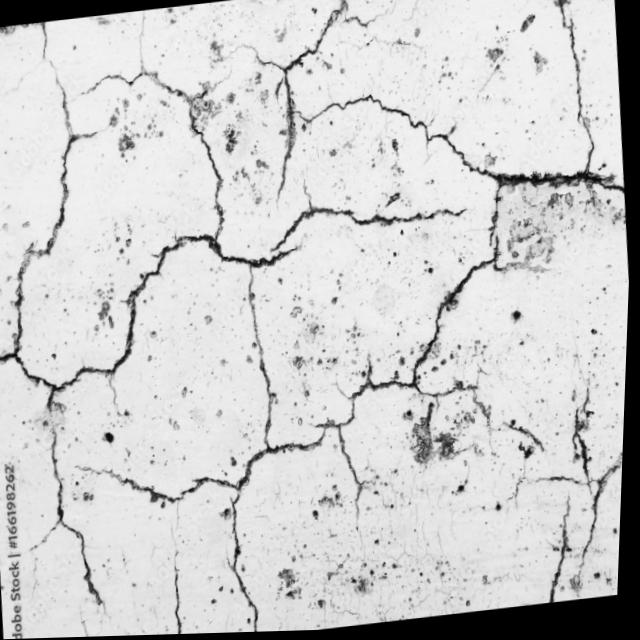Crack: (0, 0, 623, 636)
